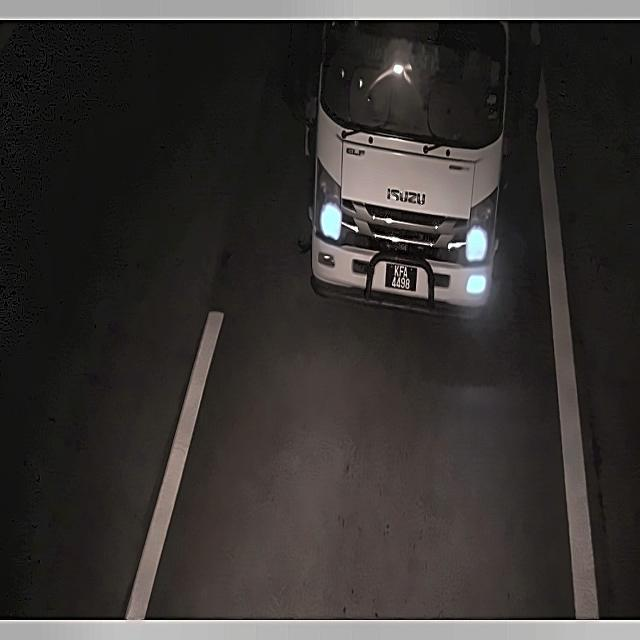car: (381, 261, 418, 296)
